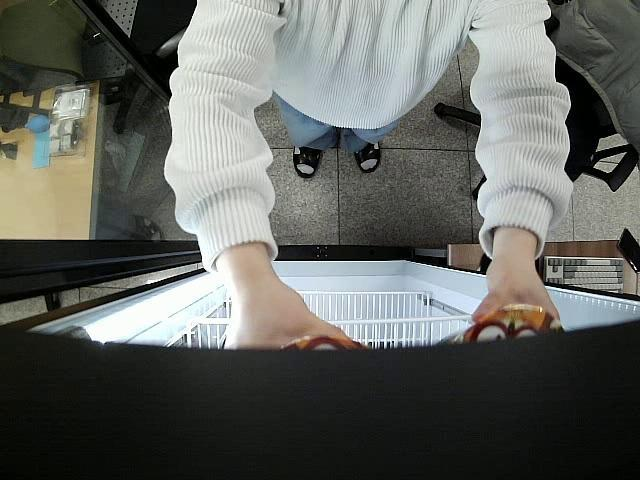05_nuguri_L: (442, 304, 568, 346)
